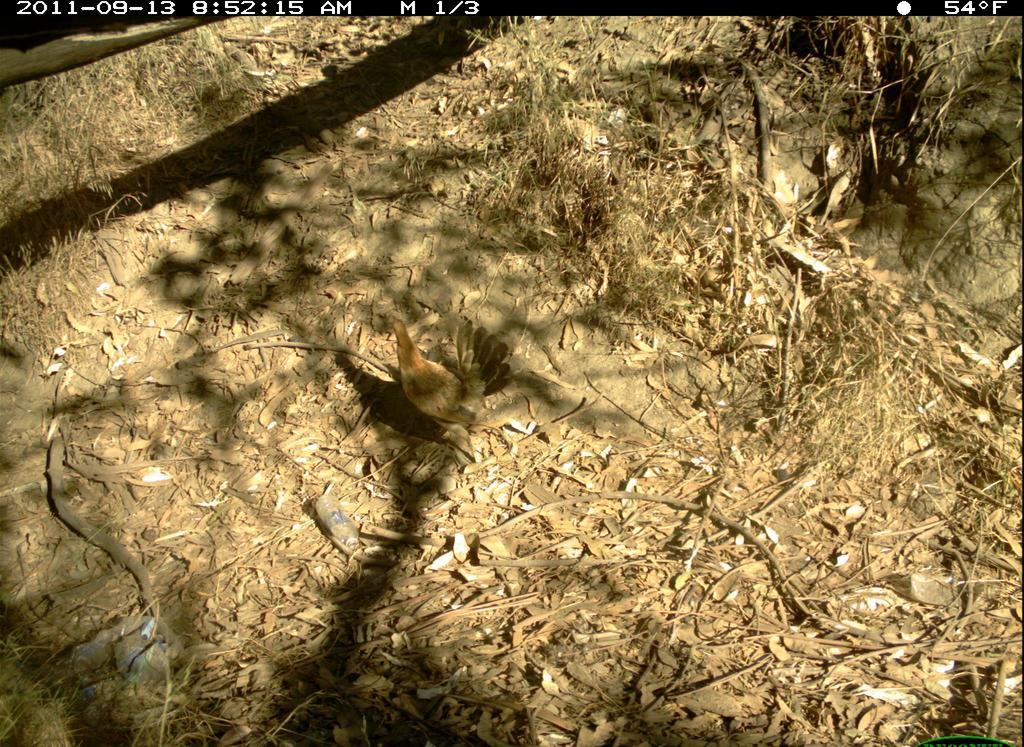bird: (382, 303, 529, 451)
